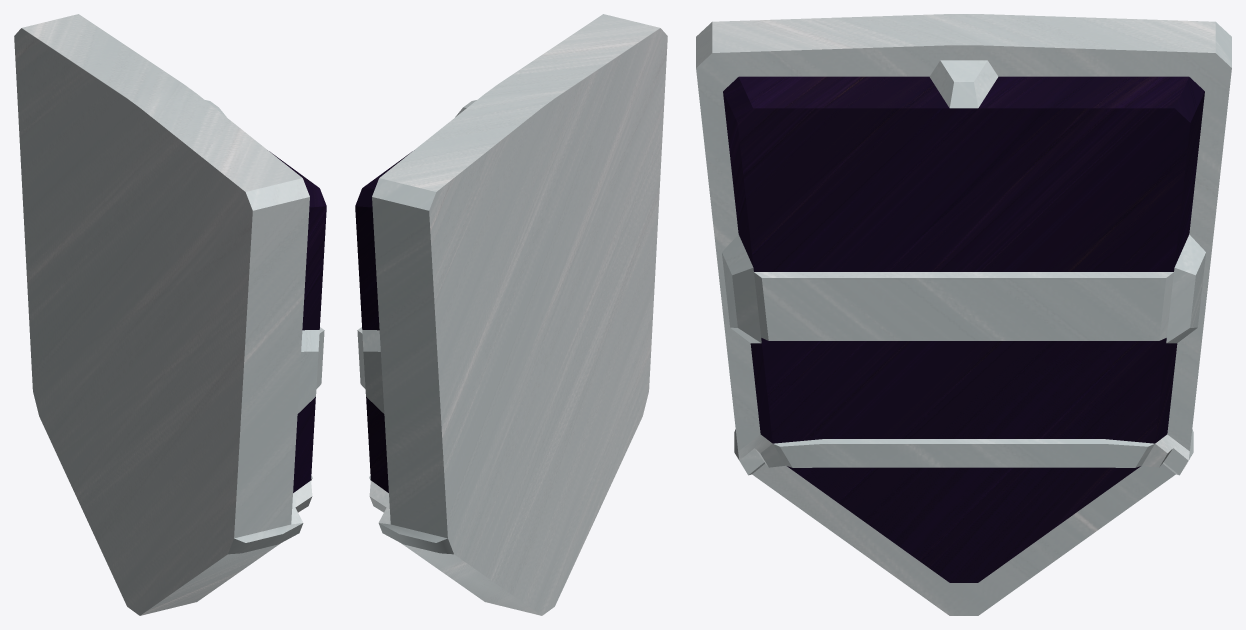
File: ShieldSSS.fbx
The picture shows the model from 3 angles, left to right: view 1: azimuth 30°, elevation 25°; view 2: azimuth 150°, elevation 25°; view 3: azimuth 270°, elevation 25°; orthographic projection. The views are drawn at different scales.
Visible parts, largest first — view 1: Shield SSS; view 2: Shield SSS; view 3: Shield SSS.
Boxes of the visible parts, left/top/right/bottom form: Shield SSS: left=14, top=14, right=326, bottom=615; Shield SSS: left=355, top=14, right=667, bottom=615; Shield SSS: left=696, top=14, right=1231, bottom=615.
Bounding box in the file's own units: 0.1804 × 0.8673 × 0.7383.
